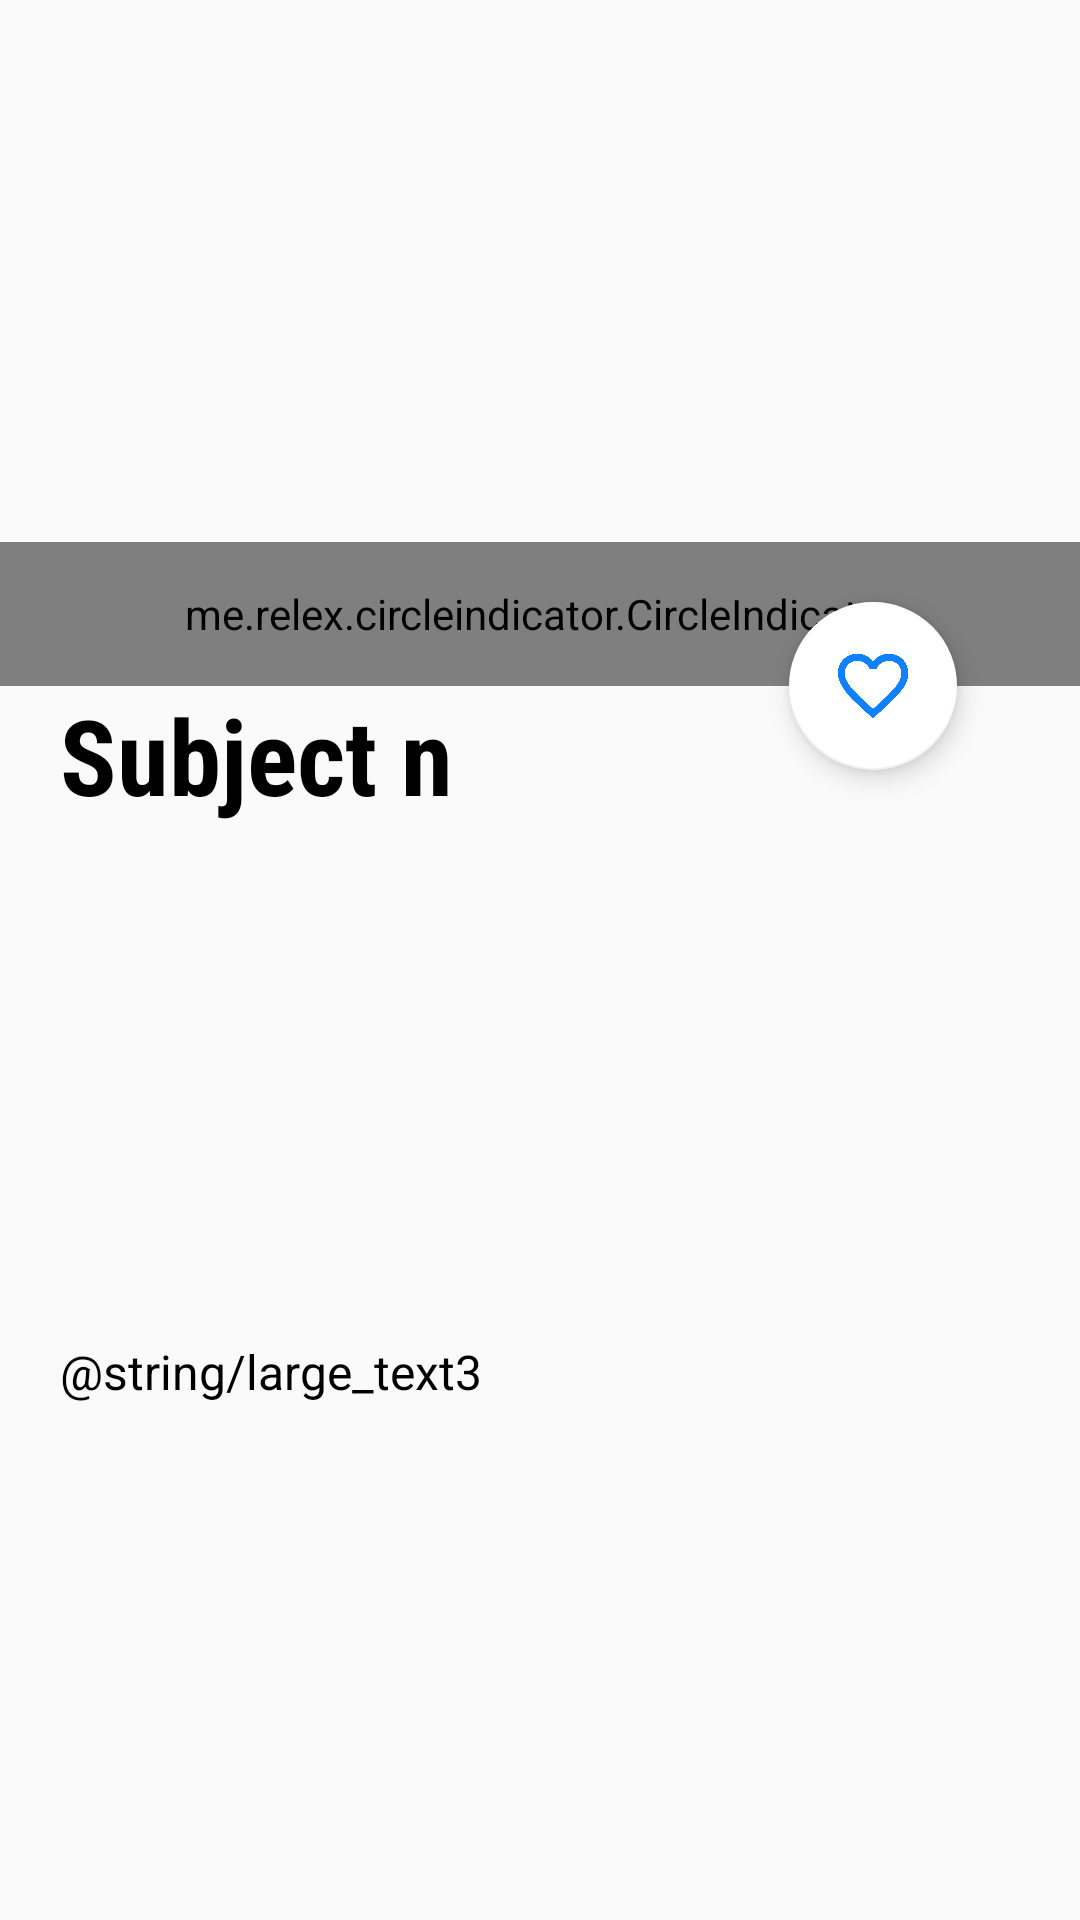

Point at icon controls on the screen. Image size 1080 x 1920, points as (x=x, y=y).
favorite border: (x=873, y=686)
